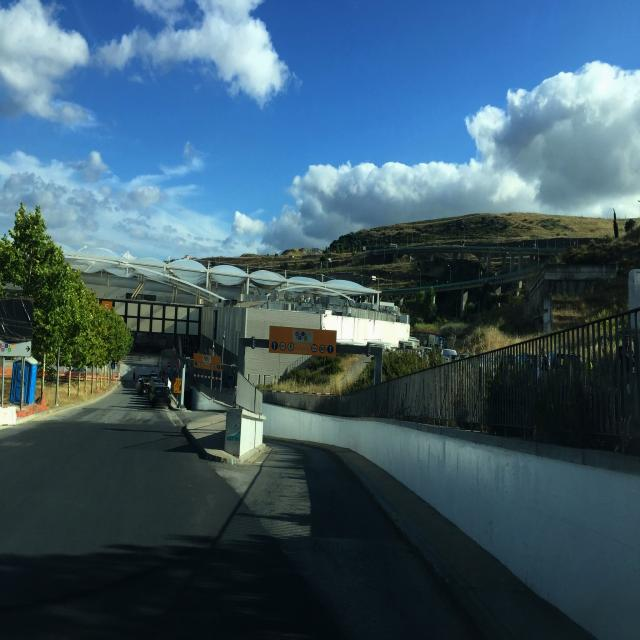car: (149, 384, 171, 409), (136, 375, 153, 397)
